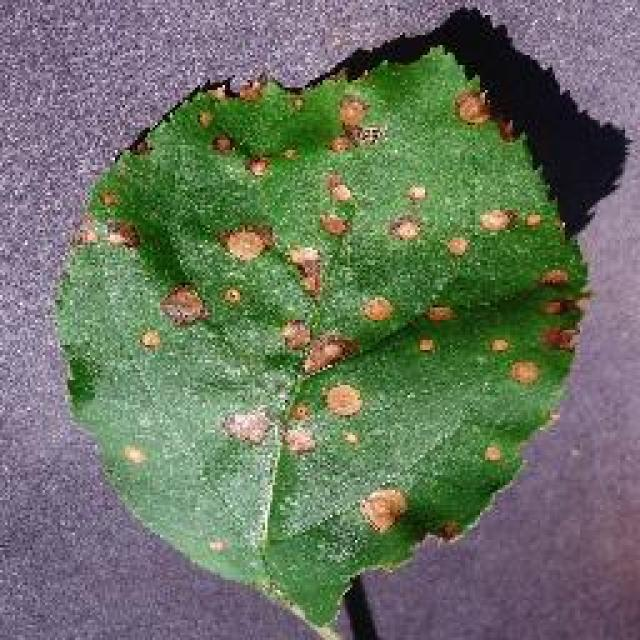black_rot: (271, 308, 359, 380), (312, 166, 366, 247), (332, 85, 391, 159), (352, 474, 416, 537), (152, 276, 218, 330), (219, 211, 280, 268), (289, 235, 338, 303), (86, 217, 150, 259), (394, 185, 430, 255), (450, 75, 492, 131), (229, 405, 277, 452), (329, 375, 374, 425), (471, 194, 519, 240), (362, 278, 404, 329), (286, 412, 328, 463), (207, 73, 279, 101), (422, 291, 462, 339), (532, 252, 581, 290), (245, 129, 277, 185), (500, 352, 546, 390), (517, 290, 574, 320), (213, 117, 244, 163), (438, 225, 473, 265), (131, 324, 167, 360), (519, 199, 549, 236), (546, 322, 576, 350)
